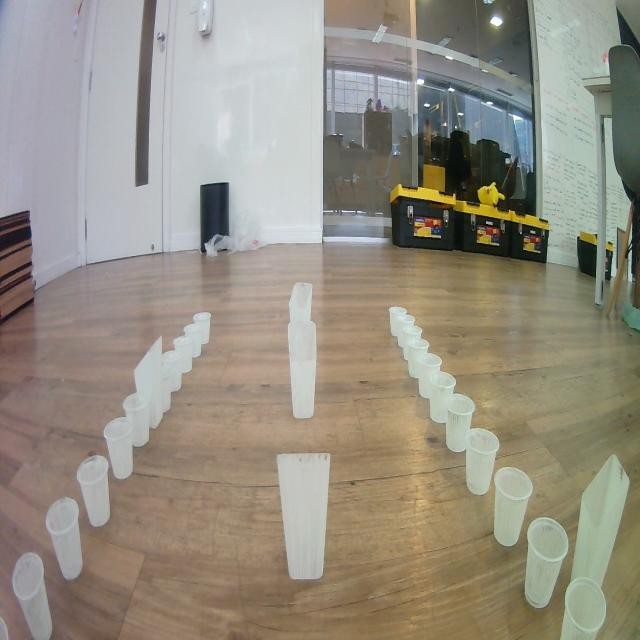erva_daninha: (569, 453, 630, 592), (277, 452, 331, 582), (286, 317, 317, 420), (134, 335, 163, 429), (289, 282, 313, 330)
planta: (524, 517, 570, 610), (12, 551, 55, 640), (493, 467, 533, 548), (46, 496, 84, 581), (559, 576, 606, 640), (76, 454, 112, 528), (464, 427, 500, 496), (103, 416, 134, 479), (444, 394, 476, 454), (122, 391, 150, 448), (429, 372, 457, 424), (418, 352, 442, 400), (407, 338, 430, 378), (162, 349, 182, 394), (172, 336, 193, 374), (402, 326, 423, 362), (183, 322, 203, 358), (192, 312, 212, 346), (396, 314, 416, 348), (388, 306, 408, 337)
